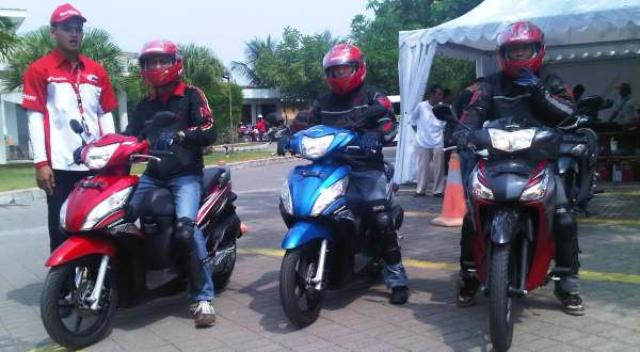helm: (496, 18, 550, 81), (320, 45, 374, 95), (137, 39, 189, 89)
motor: (36, 114, 238, 352), (431, 106, 598, 352), (266, 112, 415, 332)
